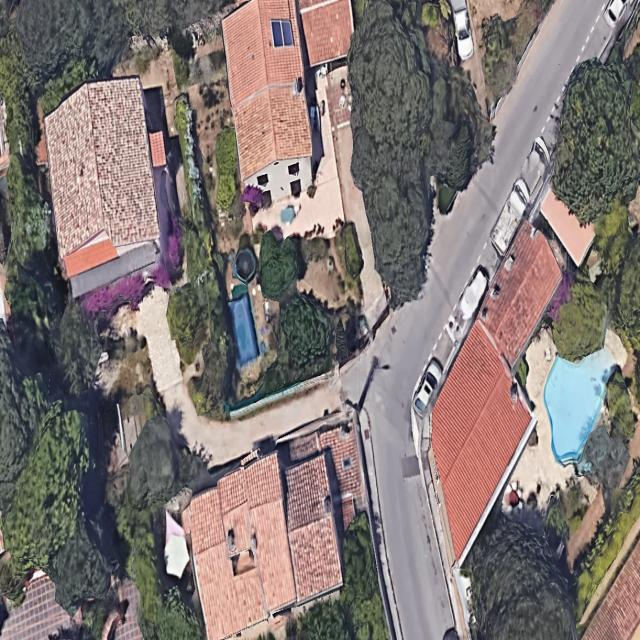maison: (373, 223, 607, 565), (152, 420, 413, 640), (33, 70, 184, 298), (220, 0, 374, 218)
